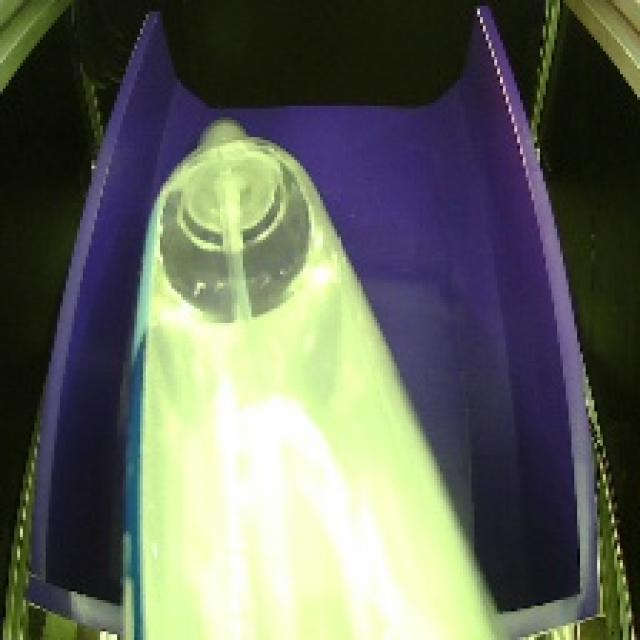plastic: (109, 100, 514, 640)
